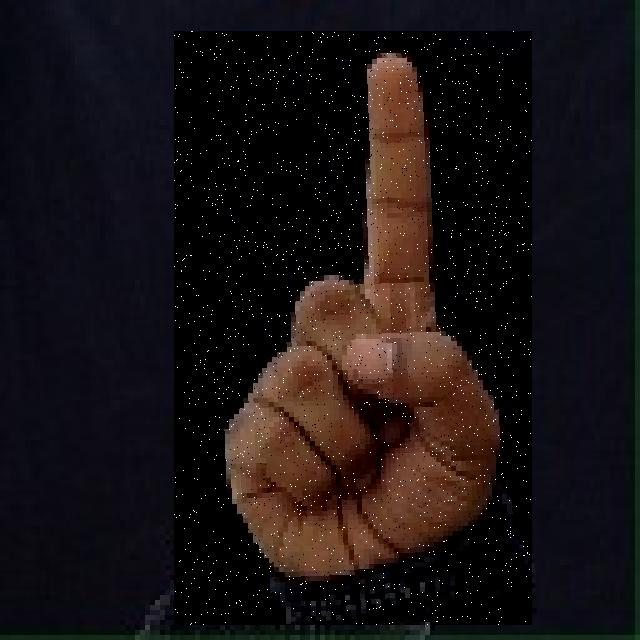IloveYou: (174, 31, 532, 625)
